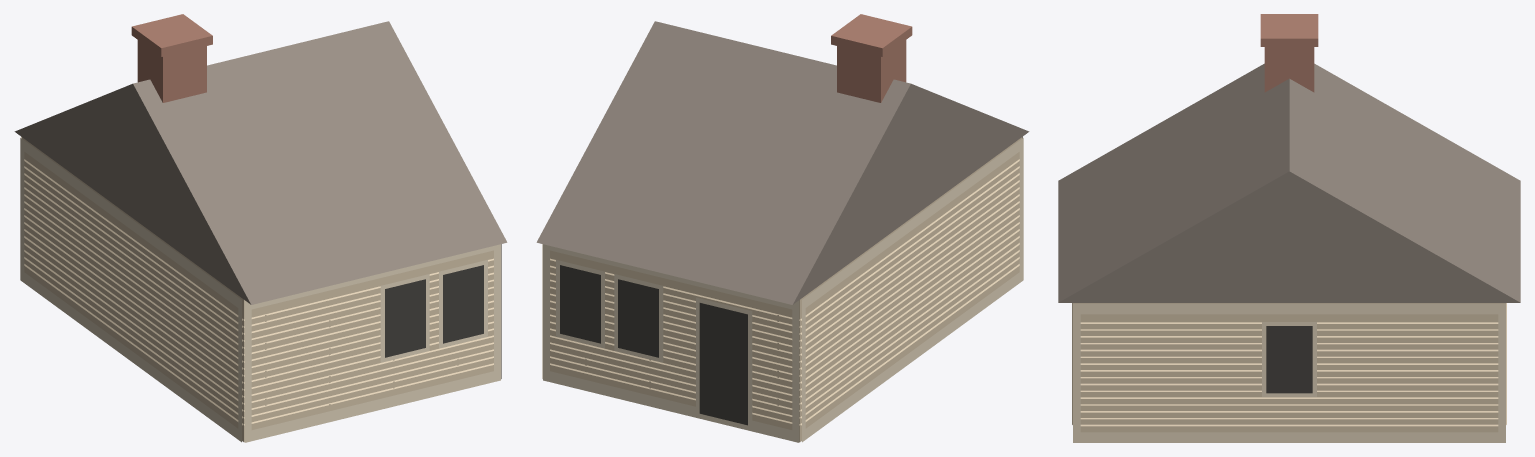
File: recon_1835_west_043__inferred_1835.glb
3 views of the same model, side by side, from view 1: azimuth 30°, elevation 25°; view 2: azimuth 150°, elevation 25°; view 3: azimuth 270°, elevation 25° (orthographic). The views are drawn at different scales.
Visible parts, largest first — view 1: recon_1835_west_043__inferred_1835; view 2: recon_1835_west_043__inferred_1835; view 3: recon_1835_west_043__inferred_1835.
Part boxes in pixels (left/top/right/bottom): recon_1835_west_043__inferred_1835: left=14, top=14, right=507, bottom=442; recon_1835_west_043__inferred_1835: left=536, top=14, right=1029, bottom=442; recon_1835_west_043__inferred_1835: left=1058, top=14, right=1520, bottom=442.
Bounding box in the file's own units: 4.96 × 5.83 × 7.82.
